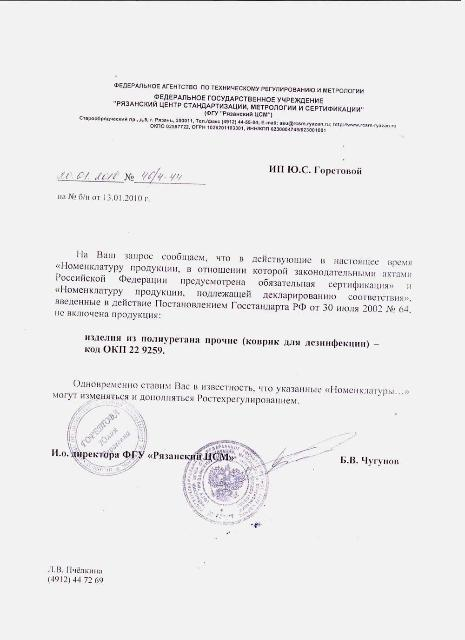stamp: (182, 439, 270, 529), (66, 398, 150, 478)
